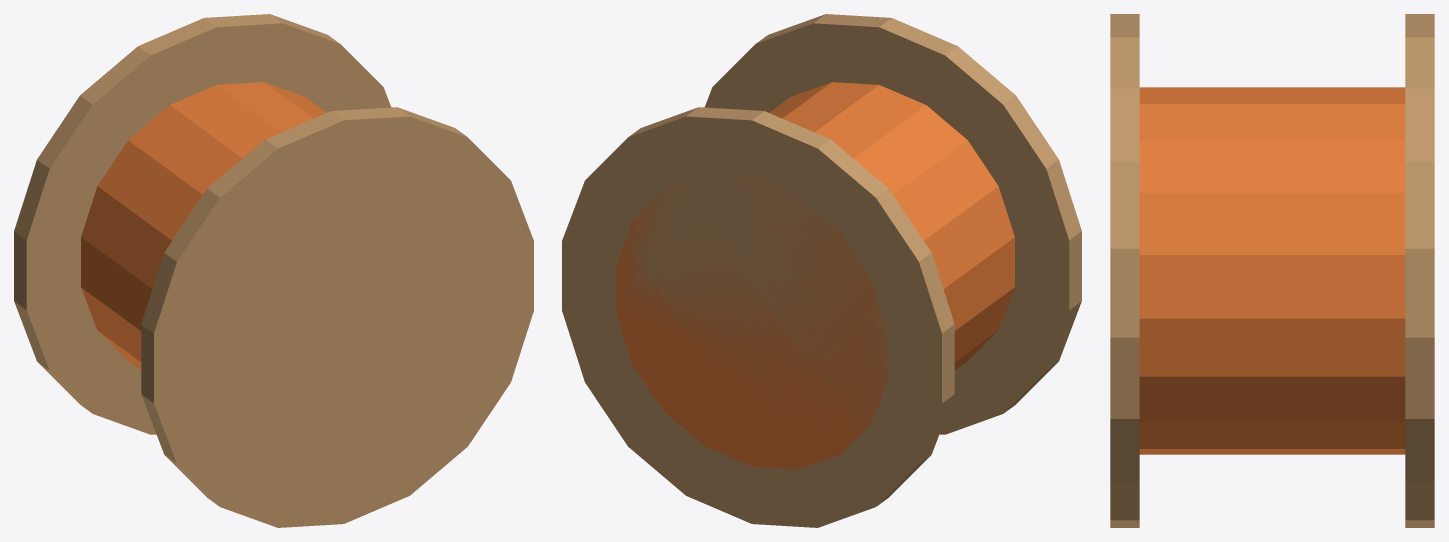
Rendered from cable_reel.glb.
3 renders of one model, left to right at view 1: azimuth 30°, elevation 25°; view 2: azimuth 150°, elevation 25°; view 3: azimuth 270°, elevation 25°, orthographic. The views are drawn at different scales.
Parts seen in each view (by area): view 1: cable_reel_mesh; view 2: cable_reel_mesh; view 3: cable_reel_mesh.
Part boxes in pixels (bbox=[...]): cable_reel_mesh: bbox=[14, 14, 533, 527]; cable_reel_mesh: bbox=[562, 14, 1081, 527]; cable_reel_mesh: bbox=[1110, 14, 1434, 527].
Size of the model in its own units: 0.6894 by 0.7 by 0.44.
